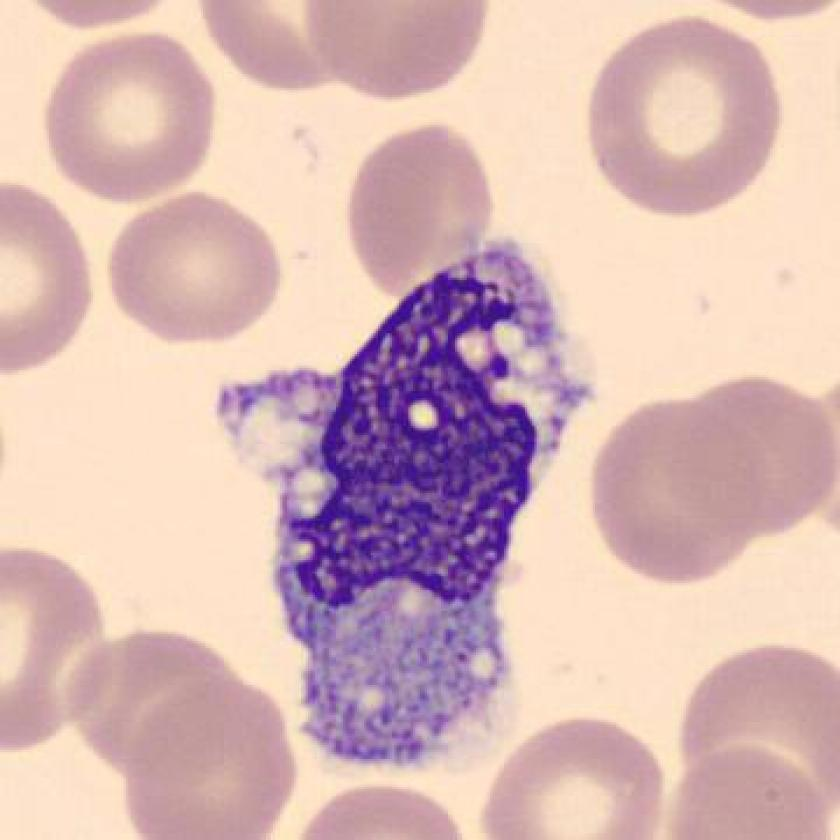monocyte: (197, 218, 612, 788)
